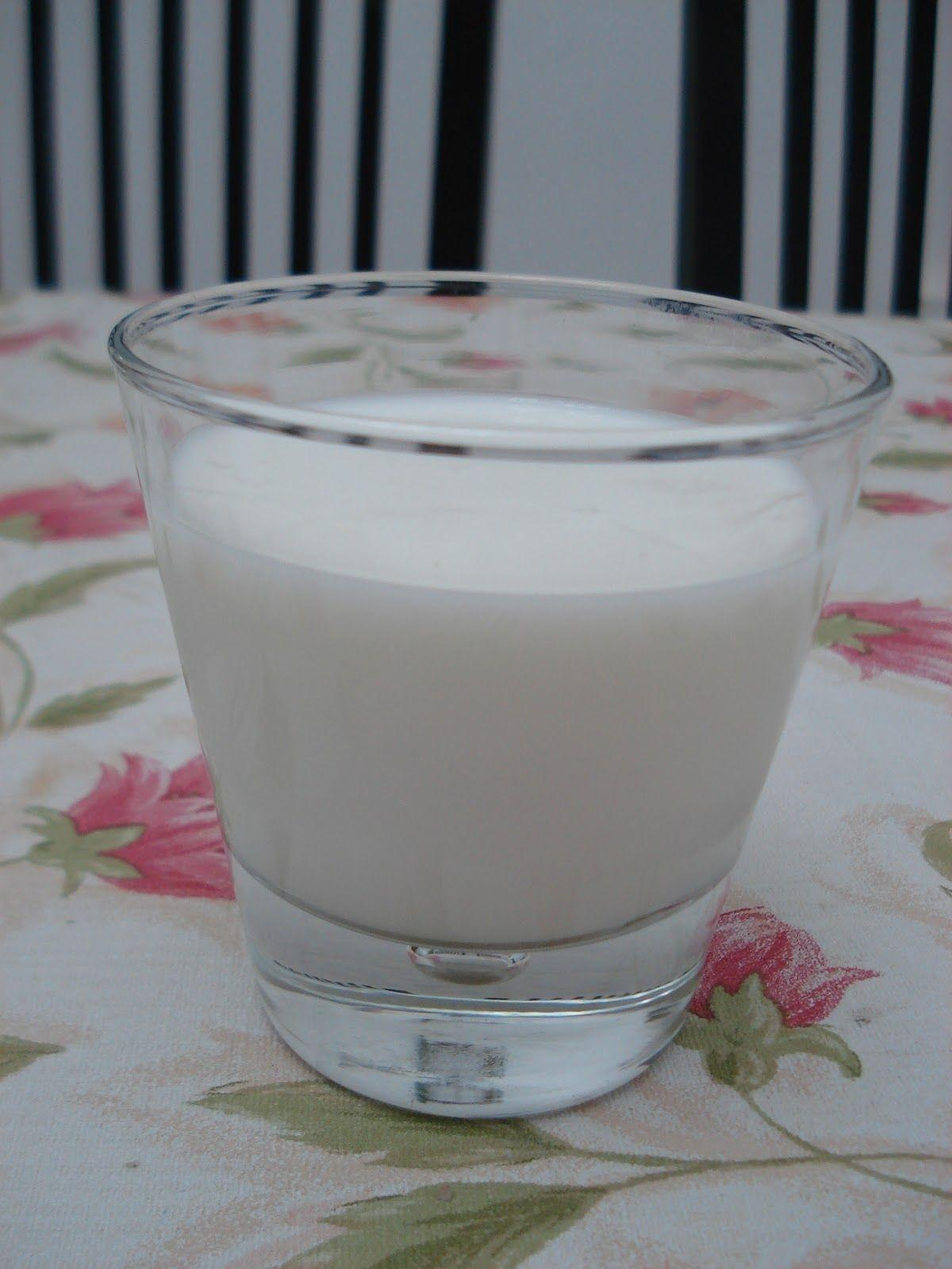glass-normal: (104, 255, 908, 1132)
